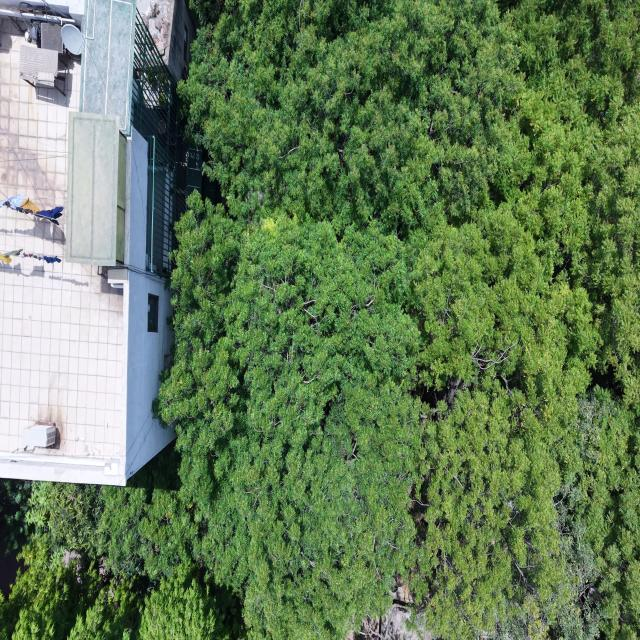ROOFTOP_BUILDING: (0, 0, 180, 484)
VEGETATION_TREE: (0, 0, 639, 639), (0, 447, 245, 639)
